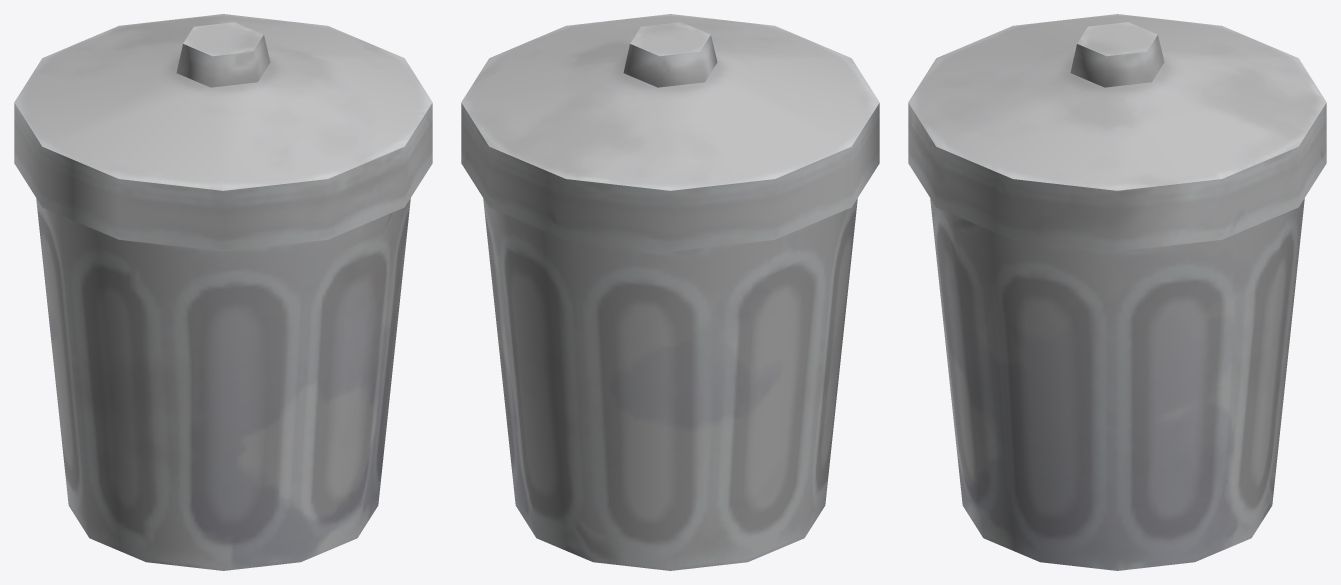
The model's file is Prfb_Bin.fbx.
The picture shows the model from 3 angles, left to right: view 1: azimuth 30°, elevation 25°; view 2: azimuth 150°, elevation 25°; view 3: azimuth 270°, elevation 25°; orthographic projection.
Parts seen in each view (by area): view 1: Mat_StreetAssets01_1; view 2: Mat_StreetAssets01_1; view 3: Mat_StreetAssets01_1.
Boxes of the visible parts, left/top/right/bottom form: Mat_StreetAssets01_1: left=14, top=14, right=432, bottom=570; Mat_StreetAssets01_1: left=461, top=14, right=879, bottom=570; Mat_StreetAssets01_1: left=908, top=14, right=1326, bottom=570.
Size of the model in its own units: 0.6479 by 0.7965 by 0.6479.
Materials: 1 (1 with a texture image).
